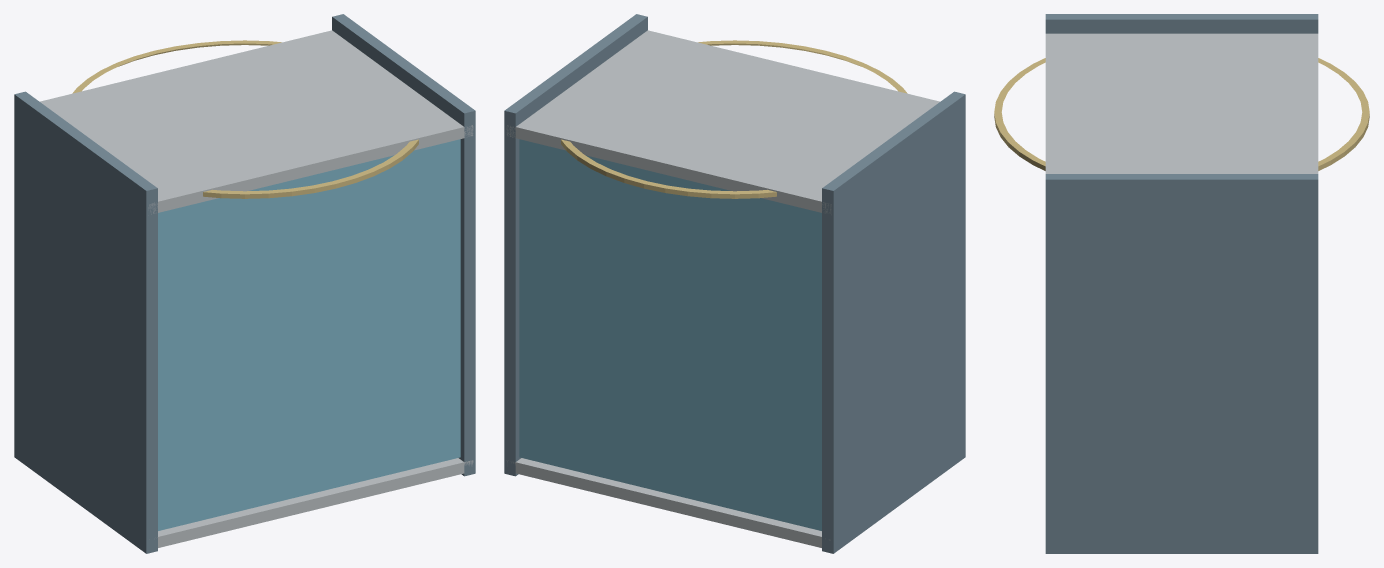
File: 38_L79_TransparentBondChamberWindow.glb
The picture shows the model from 3 angles, left to right: view 1: azimuth 30°, elevation 25°; view 2: azimuth 150°, elevation 25°; view 3: azimuth 270°, elevation 25°; orthographic projection. The views are drawn at different scales.
Visible parts, largest first — view 1: TransparentBondChamberWindow_Node_0005, TransparentBondChamberWindow_Node_0000, TransparentBondChamberWindow_Node_0003, TransparentBondChamberWindow_Node_0001, TransparentBondChamberWindow_Node_0002, TransparentBondChamberWindow_Node_0006; view 2: TransparentBondChamberWindow_Node_0004, TransparentBondChamberWindow_Node_0000, TransparentBondChamberWindow_Node_0003, TransparentBondChamberWindow_Node_0001, TransparentBondChamberWindow_Node_0002, TransparentBondChamberWindow_Node_0006; view 3: TransparentBondChamberWindow_Node_0001, TransparentBondChamberWindow_Node_0003, TransparentBondChamberWindow_Node_0000, TransparentBondChamberWindow_Node_0006.
Part boxes in pixels (x1=…): TransparentBondChamberWindow_Node_0005: x1=158, y1=139, x2=460, y2=530; TransparentBondChamberWindow_Node_0000: x1=14, y1=91, x2=157, y2=553; TransparentBondChamberWindow_Node_0003: x1=40, y1=30, x2=473, y2=214; TransparentBondChamberWindow_Node_0001: x1=332, y1=14, x2=475, y2=476; TransparentBondChamberWindow_Node_0002: x1=157, y1=458, x2=473, y2=547; TransparentBondChamberWindow_Node_0006: x1=72, y1=40, x2=418, y2=198; TransparentBondChamberWindow_Node_0004: x1=519, y1=139, x2=821, y2=530; TransparentBondChamberWindow_Node_0000: x1=822, y1=91, x2=965, y2=553; TransparentBondChamberWindow_Node_0003: x1=506, y1=30, x2=939, y2=214; TransparentBondChamberWindow_Node_0001: x1=504, y1=14, x2=647, y2=476; TransparentBondChamberWindow_Node_0002: x1=506, y1=458, x2=830, y2=547; TransparentBondChamberWindow_Node_0006: x1=561, y1=40, x2=907, y2=198; TransparentBondChamberWindow_Node_0001: x1=1045, y1=174, x2=1318, y2=553; TransparentBondChamberWindow_Node_0003: x1=1045, y1=33, x2=1318, y2=173; TransparentBondChamberWindow_Node_0000: x1=1045, y1=14, x2=1318, y2=33; TransparentBondChamberWindow_Node_0006: x1=994, y1=58, x2=1369, y2=170.
Size of the model in its own units: 5.22 by 5.5 by 5.
